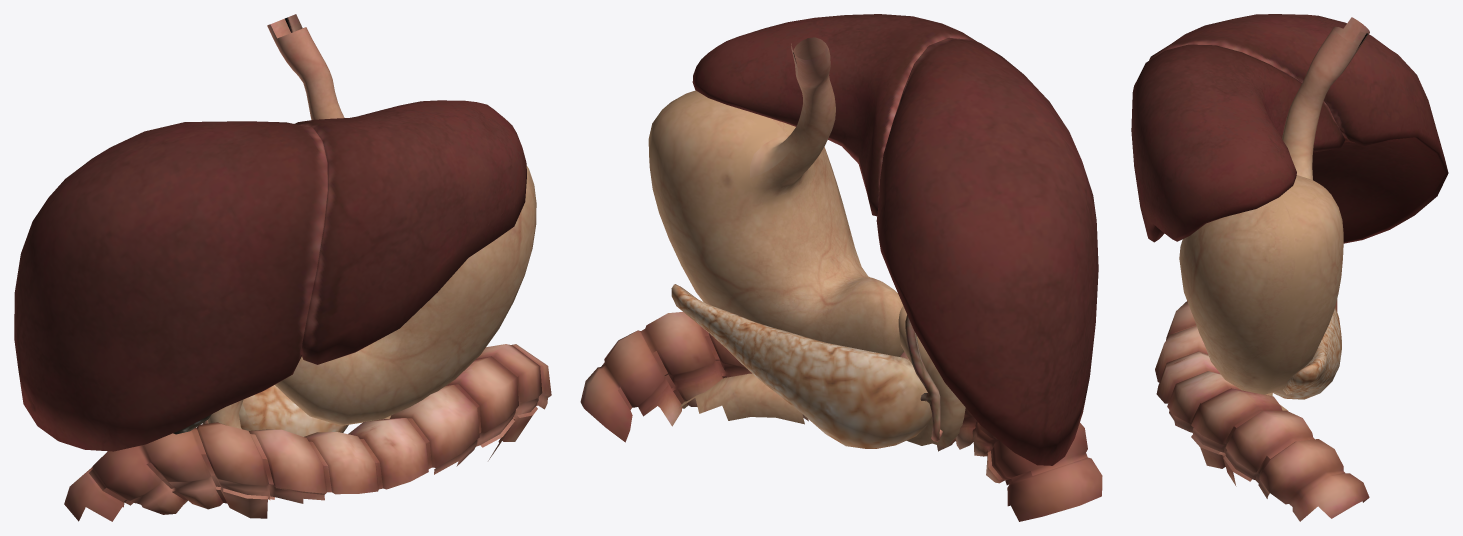
File: stomachArea.FBX
The picture shows the model from 3 angles, left to right: view 1: azimuth 30°, elevation 25°; view 2: azimuth 150°, elevation 25°; view 3: azimuth 270°, elevation 25°; orthographic projection. The views are drawn at different scales.
Parts seen in each view (by area): view 1: DigestiveSystem; view 2: DigestiveSystem; view 3: DigestiveSystem.
Boxes of the visible parts, box(x1,y1,x2,y2) form: DigestiveSystem: box(14, 14, 551, 521); DigestiveSystem: box(580, 14, 1102, 521); DigestiveSystem: box(1131, 14, 1448, 521).
Bounding box in the file's own units: 20.52 × 17.11 × 12.32.
